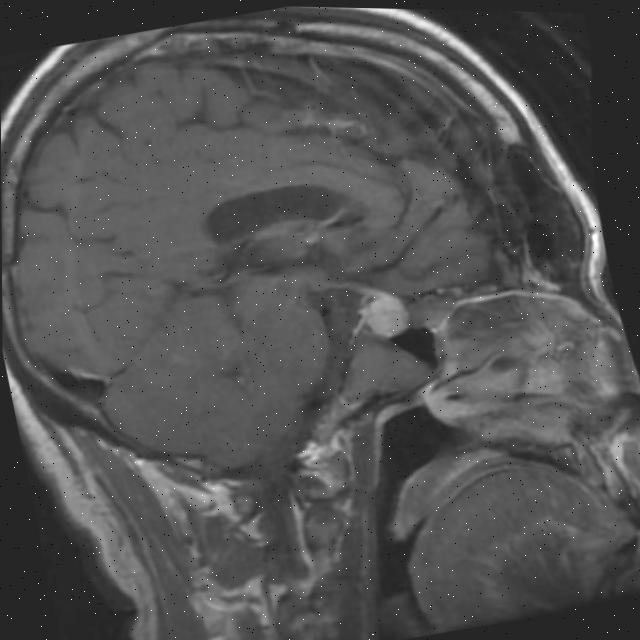Pituitary: (354, 286, 414, 343)
